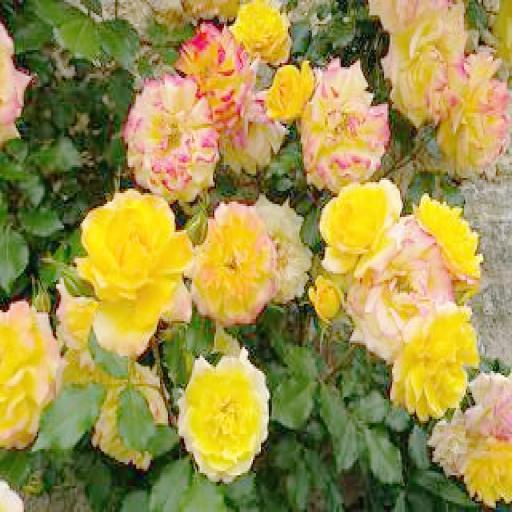rose: (75, 191, 202, 293), (126, 72, 220, 198), (179, 352, 272, 478), (388, 302, 478, 423), (298, 63, 387, 182)
